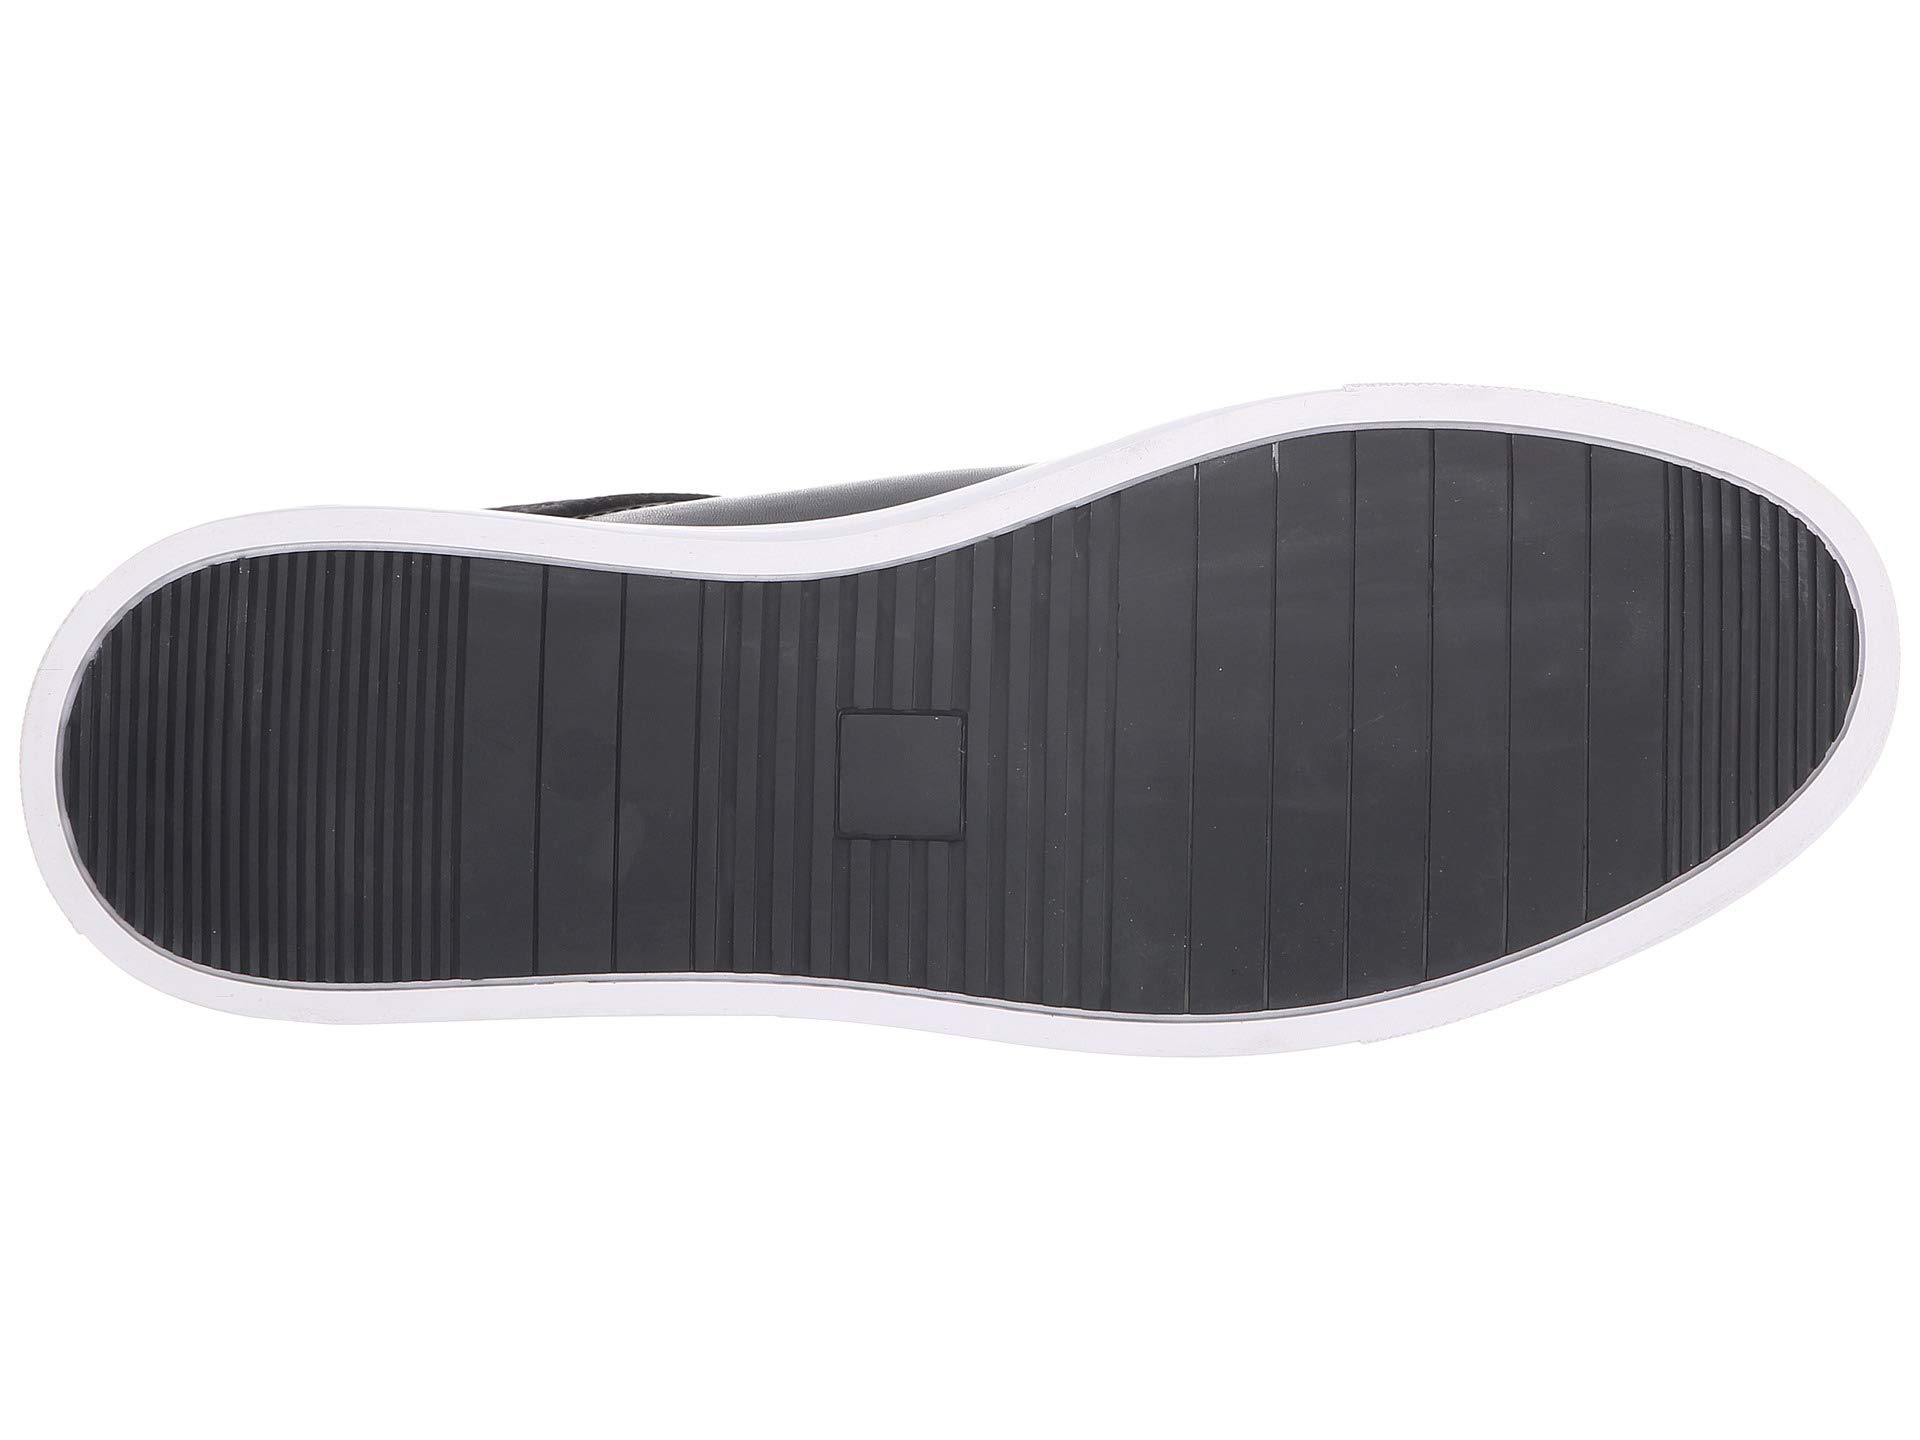line: (733, 605, 1064, 942)
quad: (733, 605, 1064, 942)
